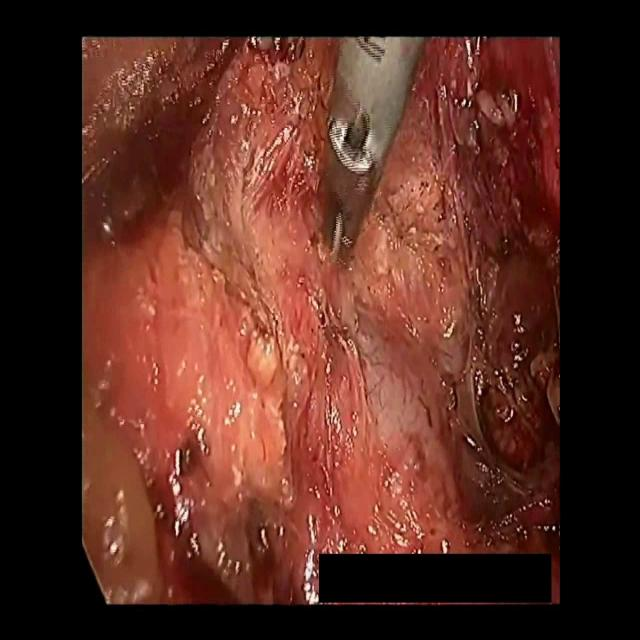surgical-area: (82, 35, 560, 604)
surgical-tool: (312, 35, 426, 268)
